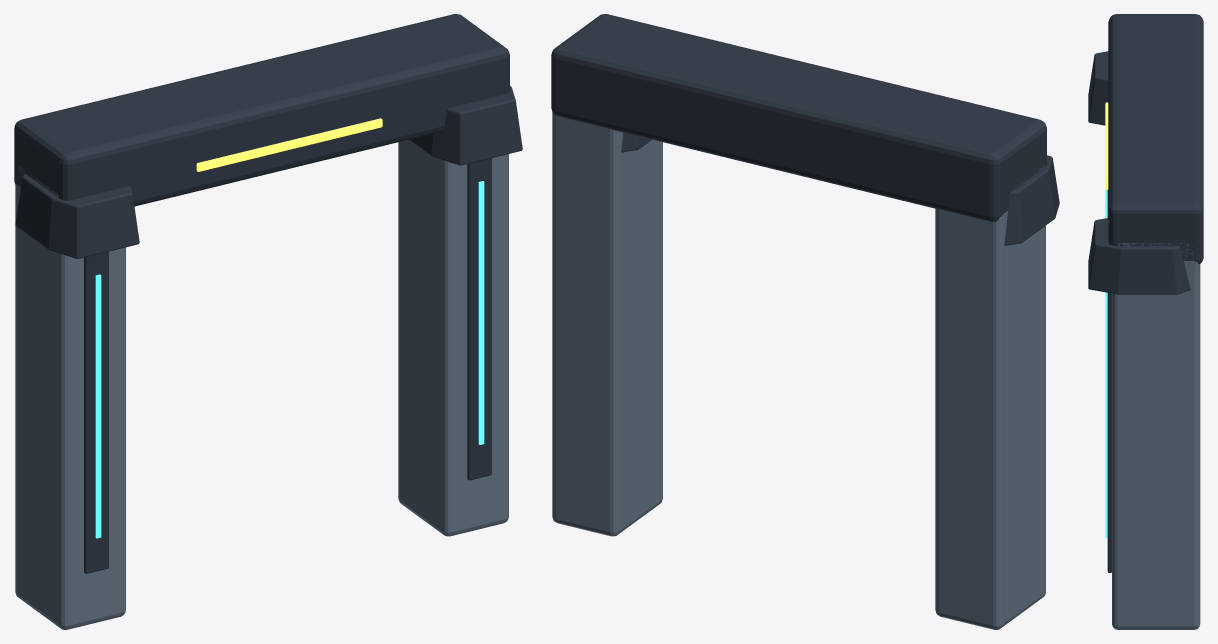
Rendered from DoorFrame.fbx.
The picture shows the model from 3 angles, left to right: view 1: azimuth 30°, elevation 25°; view 2: azimuth 150°, elevation 25°; view 3: azimuth 270°, elevation 25°; orthographic projection. The views are drawn at different scales.
Parts seen in each view (by area): view 1: DoorLintel, DoorPillar, DoorPillar.001, PillarCap, PillarInset, PillarInset.001, PillarCap.001, LintelLight, AccessStrip, AccessStrip.001; view 2: DoorLintel, DoorPillar, DoorPillar.001, PillarCap; view 3: DoorPillar.001, DoorLintel, PillarCap.001, PillarInset.001, PillarCap, AccessStrip.001, LintelLight.
Part boxes in pixels (bbox=[...]): DoorLintel: bbox=[14, 14, 509, 206]; DoorPillar: bbox=[15, 165, 125, 629]; DoorPillar.001: bbox=[398, 139, 508, 536]; PillarCap: bbox=[15, 173, 139, 258]; PillarInset: bbox=[84, 251, 108, 573]; PillarInset.001: bbox=[467, 158, 491, 480]; PillarCap.001: bbox=[409, 86, 522, 165]; LintelLight: bbox=[196, 118, 382, 171]; AccessStrip: bbox=[95, 274, 101, 538]; AccessStrip.001: bbox=[478, 181, 484, 444]; DoorLintel: bbox=[551, 14, 1046, 221]; DoorPillar: bbox=[935, 165, 1045, 629]; DoorPillar.001: bbox=[552, 112, 662, 536]; PillarCap: bbox=[1004, 155, 1059, 245]; DoorPillar.001: bbox=[1112, 243, 1200, 629]; DoorLintel: bbox=[1108, 14, 1203, 263]; PillarCap.001: bbox=[1088, 218, 1190, 294]; PillarInset.001: bbox=[1107, 293, 1111, 572]; PillarCap: bbox=[1088, 51, 1108, 125]; AccessStrip.001: bbox=[1105, 302, 1107, 538]; LintelLight: bbox=[1105, 102, 1108, 189].
Bounding box in the file's own units: 3.56 × 3.45 × 0.8484.
